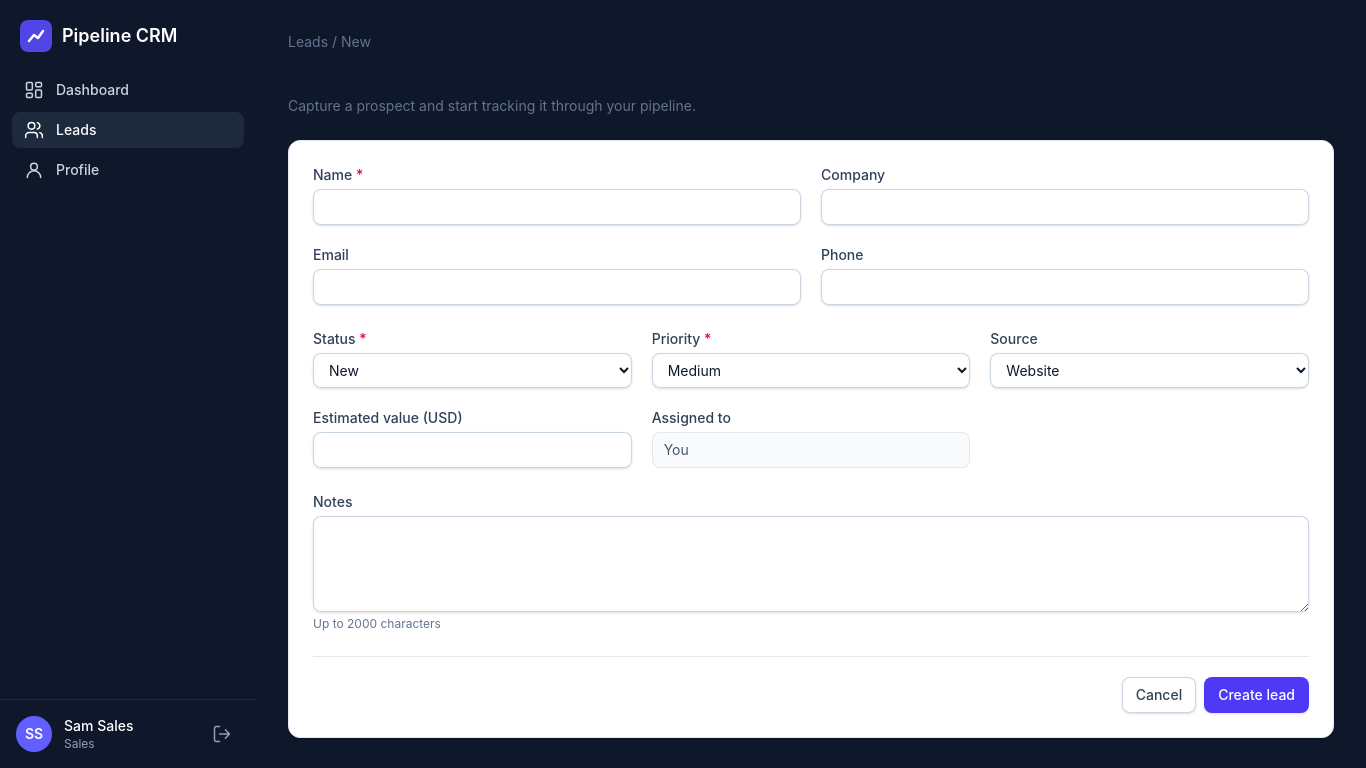
Test case: create lead › maps server field errors onto the form
Type "Valid Name" into the field labelled "Name *". click: (557, 207)
box: 313,189 -> 801,225
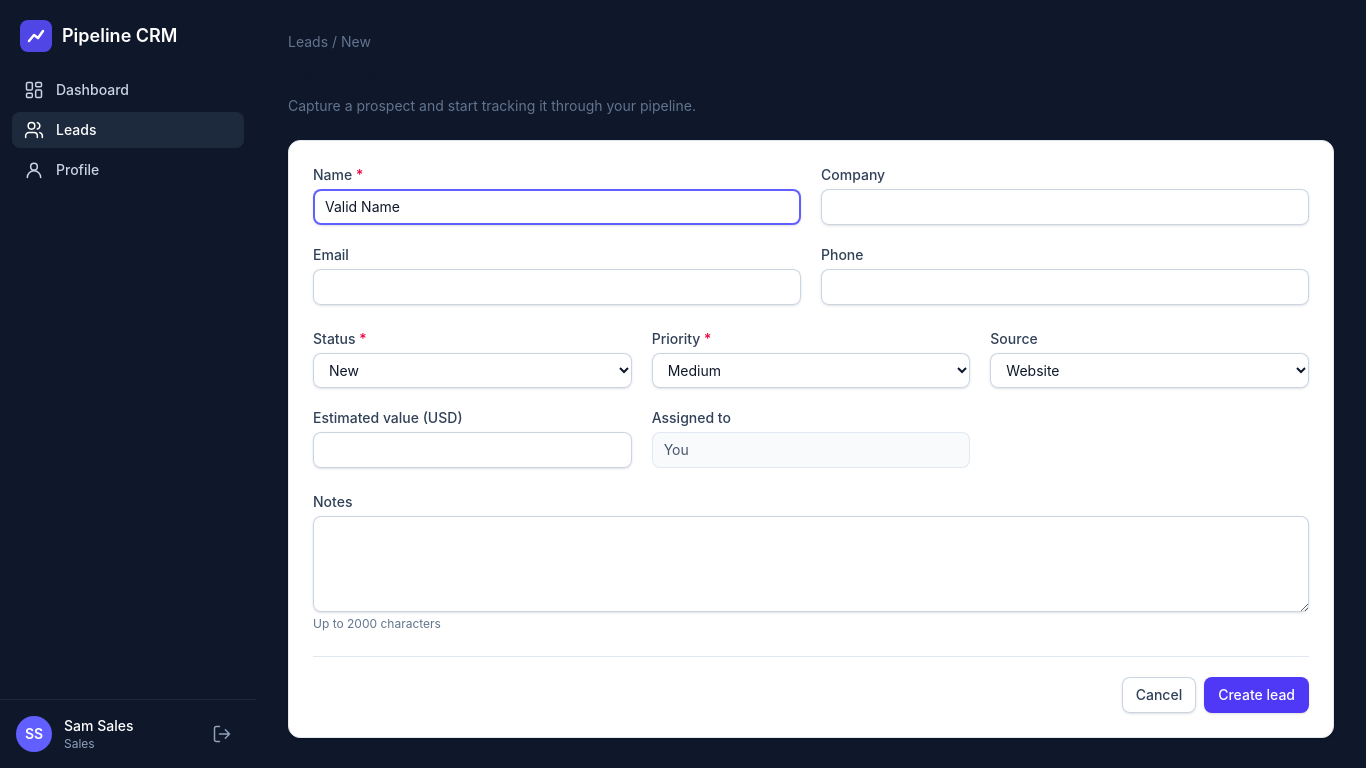
Click the button "Create lead". click: (1257, 695)
box: 1204,677 -> 1309,713
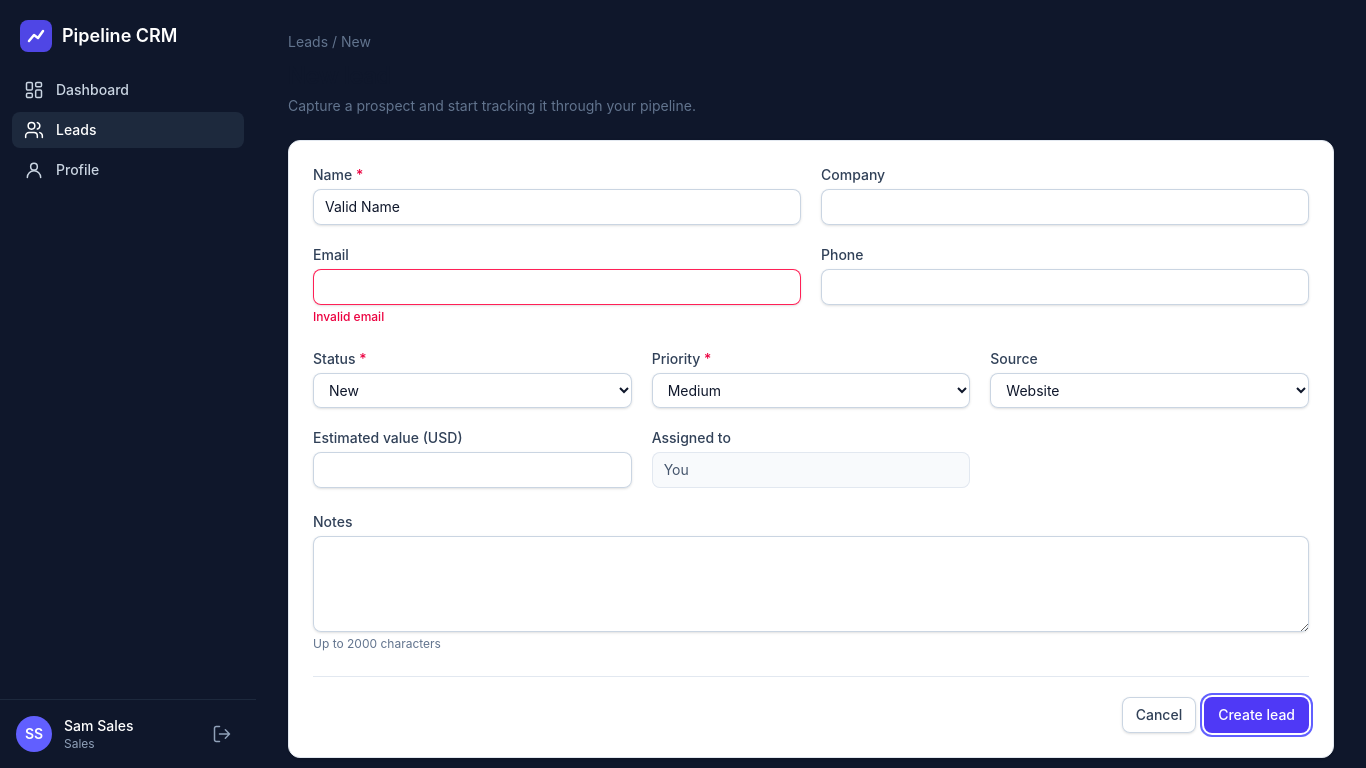
expect the text "Invalid email" is shown: met, box 313,309 -> 384,324
